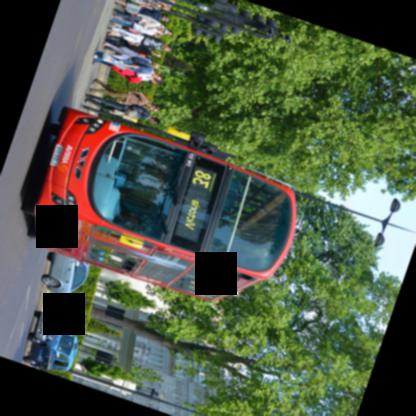backpack: (128, 104, 150, 117), (131, 56, 149, 67), (142, 93, 148, 99)
